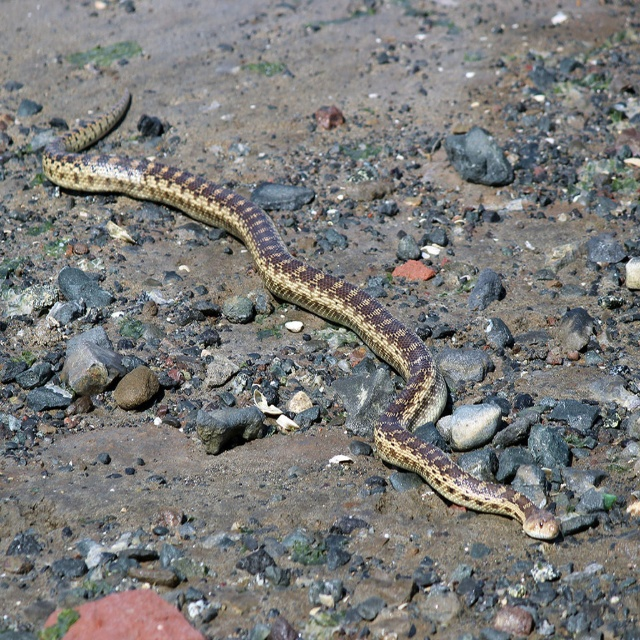Snake: (43, 95, 559, 543)
